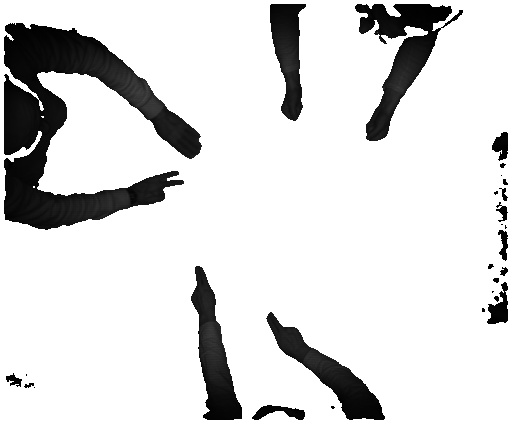fist: (360, 108, 397, 143), (280, 90, 303, 127)
hand: (155, 107, 207, 159), (184, 264, 222, 321), (264, 312, 308, 360), (134, 171, 183, 207)
